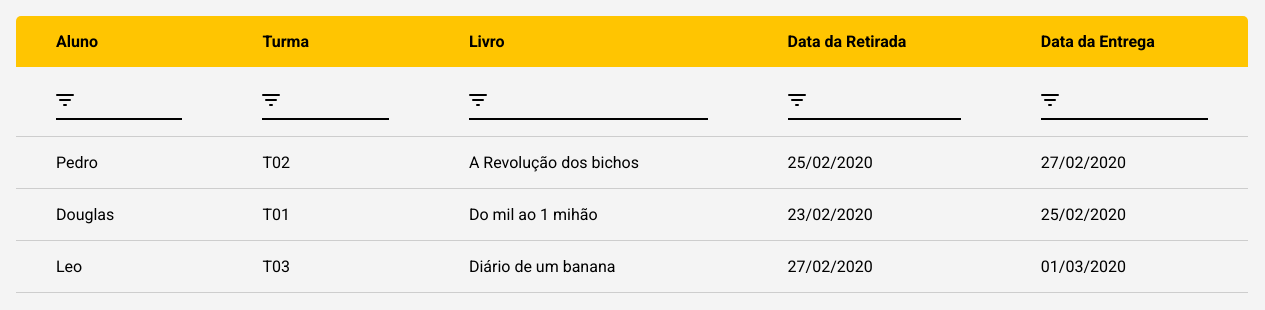
Test: <HistoryLoans /> › should order the lines for students names to be in alphabetic order when the button is clicked and to be in reverse order if it clicked again
expect the row with test id "loanLine" shows "Pedro": met, box [56, 153, 98, 172]
Click the element with test id "sortStudent": (119, 102) [56, 83, 182, 120]
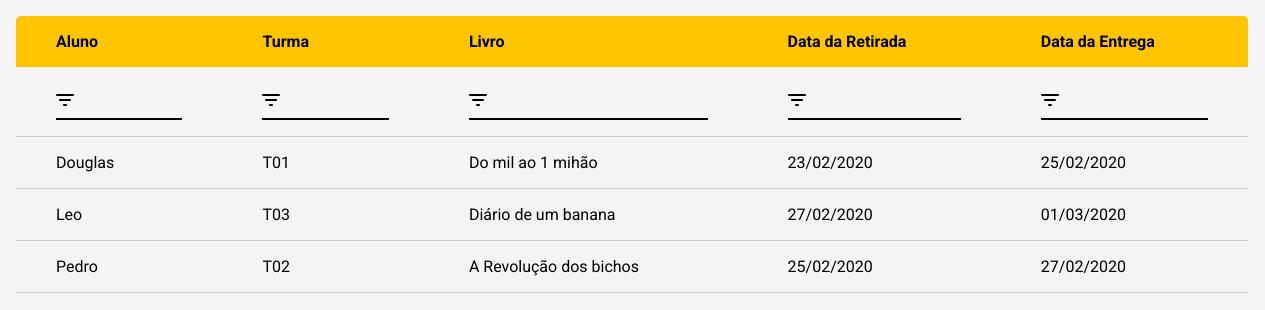
expect the row with test id "loanLine" shows "Douglas": met, box [56, 153, 114, 172]
Click the element with test id "sortStudent": (119, 102) [56, 83, 182, 120]
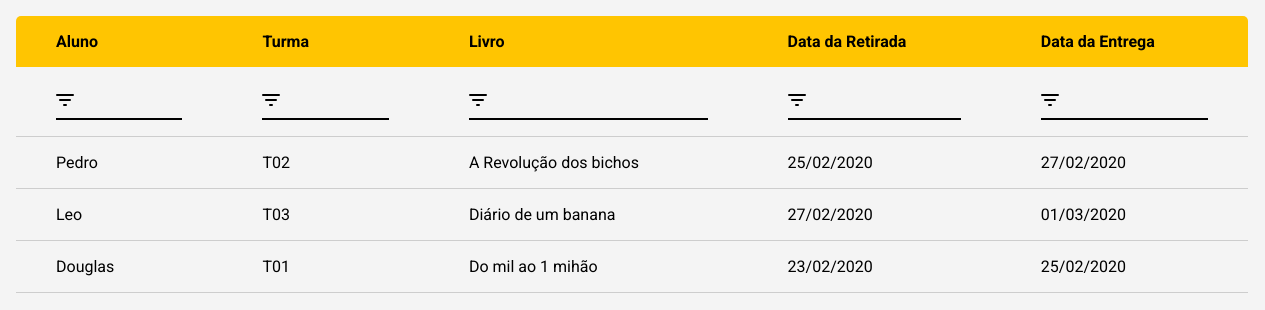
expect the row with test id "loanLine" shows "Pedro": met, box [56, 153, 98, 172]
